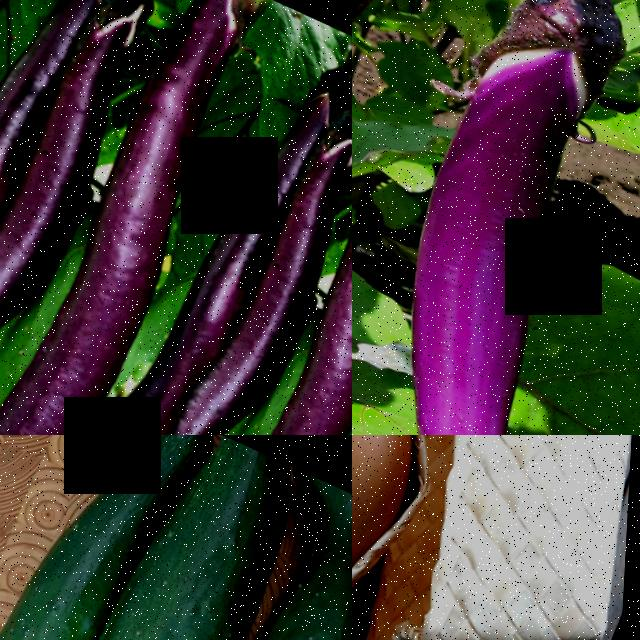cucumber: (0, 435, 311, 640), (73, 444, 352, 640), (0, 435, 193, 640)
egg_: (352, 435, 447, 576)
eggplant: (352, 0, 640, 435), (0, 0, 265, 435), (174, 32, 352, 435), (0, 0, 153, 408), (165, 107, 352, 435)
